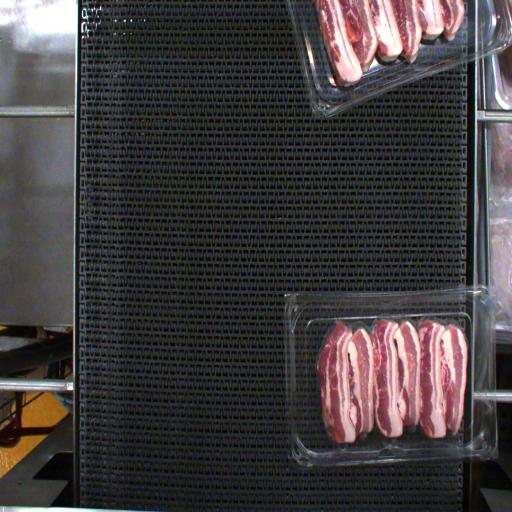unsealed: (313, 312, 473, 372)
